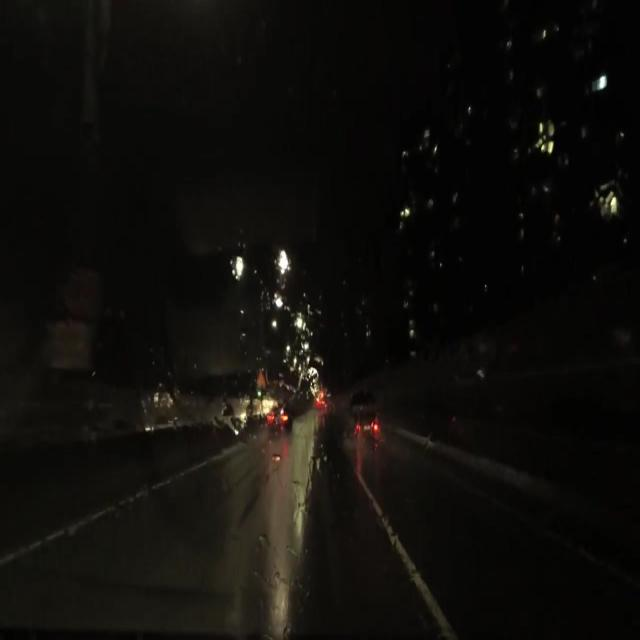Car: (344, 402, 381, 454), (264, 403, 294, 441)
